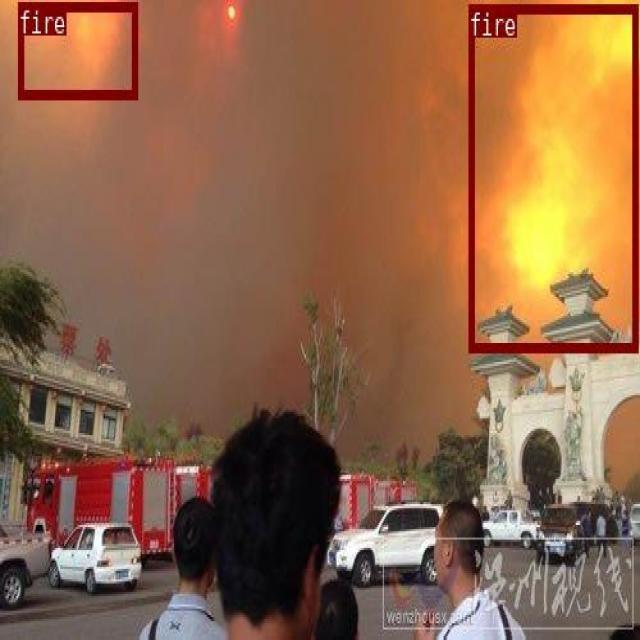fire: (468, 4, 637, 351), (18, 1, 137, 98)
